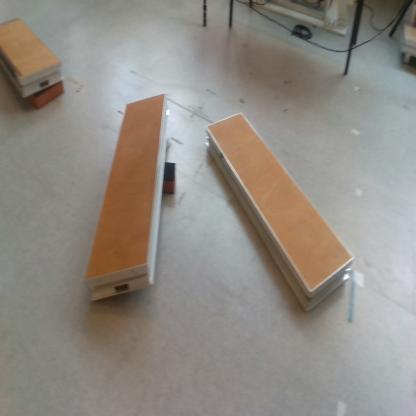Stairs: (206, 114, 356, 315), (85, 95, 171, 303), (1, 19, 63, 99)
